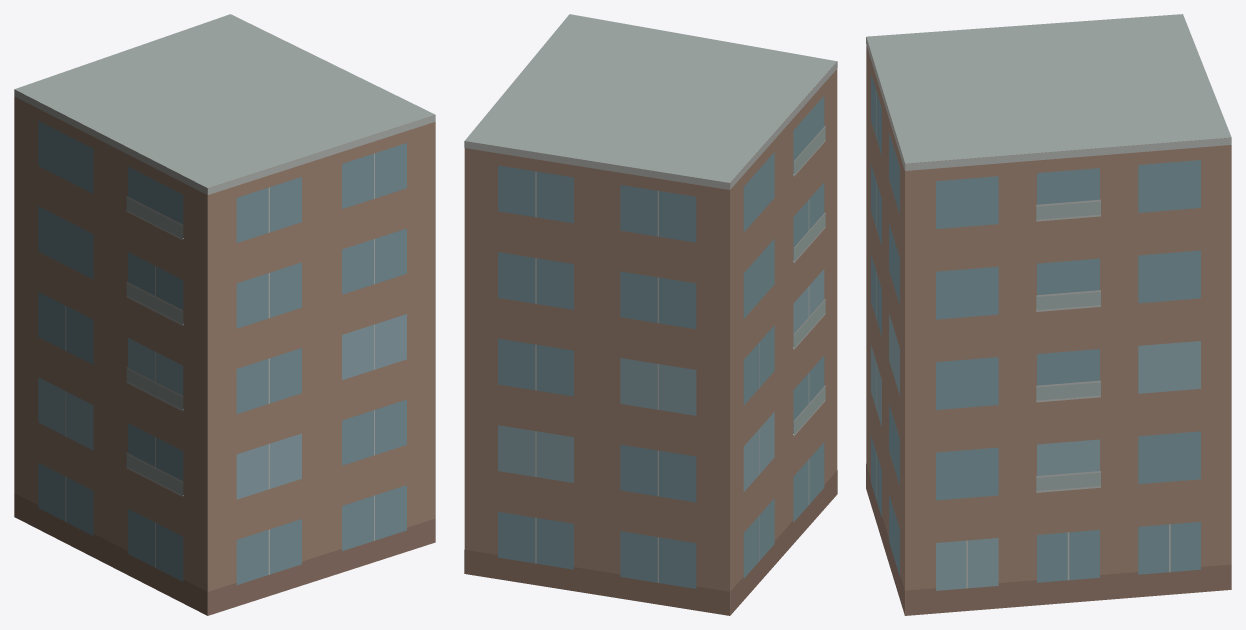
File: survey-upis-32975303.glb
3 renders of one model, left to right at view 1: azimuth 30°, elevation 25°; view 2: azimuth 150°, elevation 25°; view 3: azimuth 270°, elevation 25°, orthographic. The views are drawn at different scales.
Parts seen in each view (by area): view 1: survey-upis-32975303.tmp; view 2: survey-upis-32975303.tmp; view 3: survey-upis-32975303.tmp.
Part boxes in pixels (box(x1,y1,x2,y2)): survey-upis-32975303.tmp: box(14, 14, 435, 615); survey-upis-32975303.tmp: box(464, 14, 837, 615); survey-upis-32975303.tmp: box(866, 14, 1231, 615).
Size of the model in its own units: 10.62 by 14.95 by 10.96.
